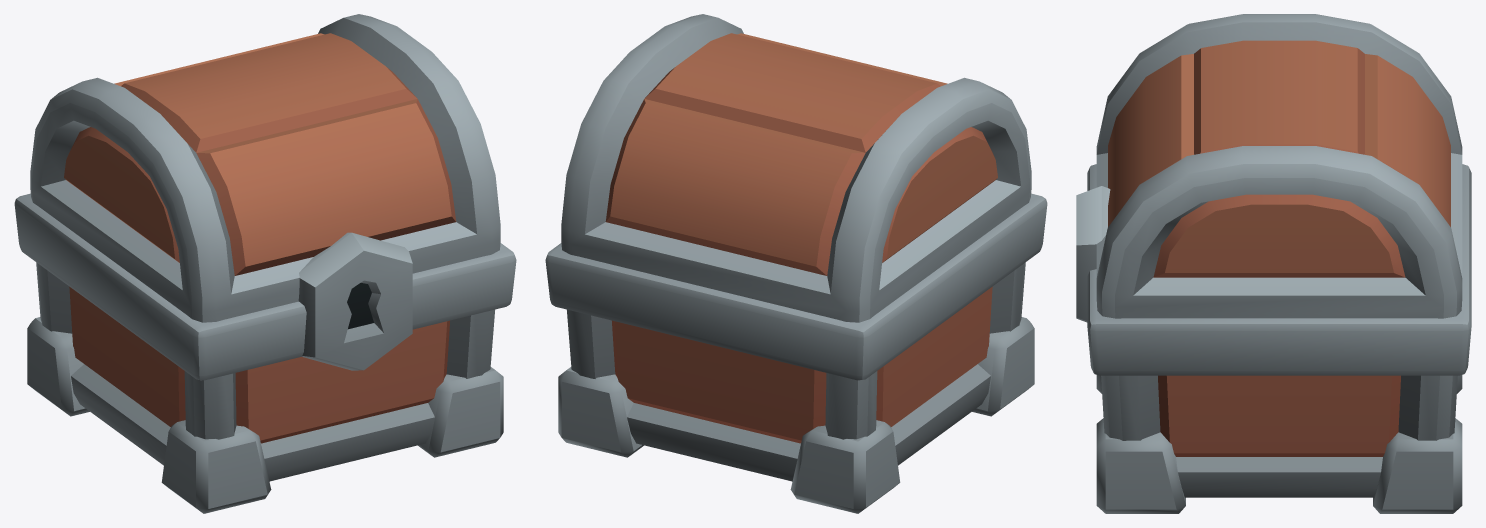
The model's file is chest.glb.
3 views of the same model, side by side, from view 1: azimuth 30°, elevation 25°; view 2: azimuth 150°, elevation 25°; view 3: azimuth 270°, elevation 25° (orthographic). The views are drawn at different scales.
Parts seen in each view (by area): view 1: chest; view 2: chest; view 3: chest.
Part boxes in pixels (box(x1,y1,x2,y2)): chest: box(14, 14, 516, 513); chest: box(545, 14, 1047, 513); chest: box(1076, 14, 1471, 513).
Bounding box in the file's own units: 2.1 × 2.15 × 2.16.
Materials: 1 (1 with a texture image).
